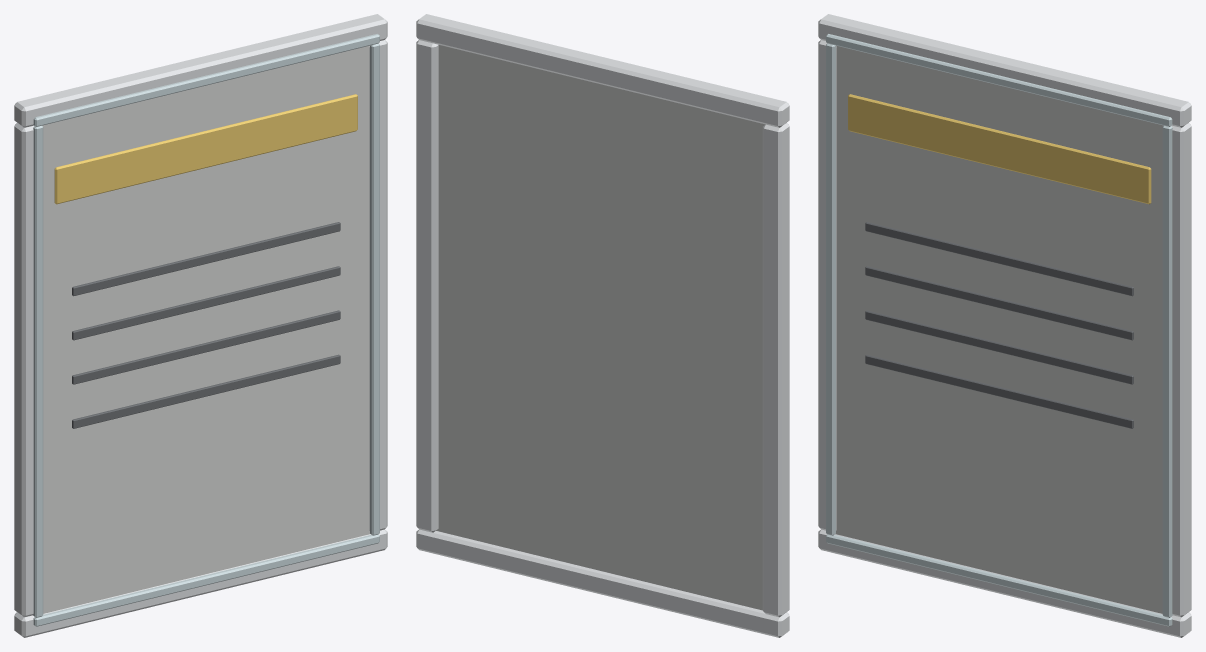
File: poster_frame.glb
3 views of the same model, side by side, from view 1: azimuth 30°, elevation 25°; view 2: azimuth 150°, elevation 25°; view 3: azimuth 330°, elevation 25° (orthographic).
Parts seen in each view (by area): view 1: wall-poster-frame; view 2: wall-poster-frame; view 3: wall-poster-frame.
Boxes of the visible parts, x1,y1,x2,y2 form: wall-poster-frame: (14, 14, 387, 637); wall-poster-frame: (416, 14, 789, 637); wall-poster-frame: (818, 14, 1191, 637).
Size of the model in its own units: 0.52 by 0.72 by 0.031.
